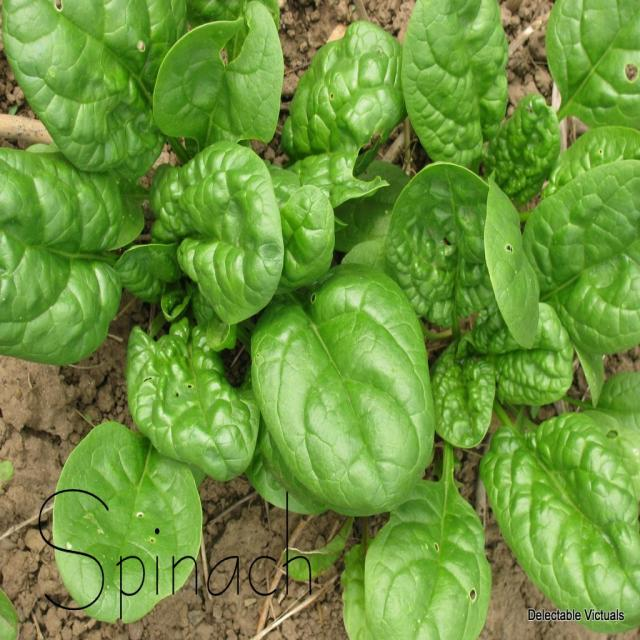spinach: (253, 278, 429, 509), (496, 418, 640, 616), (0, 155, 121, 367), (0, 0, 151, 156), (531, 161, 640, 358), (160, 150, 280, 309), (128, 323, 254, 471), (152, 2, 277, 145), (402, 0, 509, 158), (284, 25, 396, 168), (363, 513, 487, 640), (398, 162, 488, 318), (544, 0, 640, 122), (436, 347, 493, 450)
